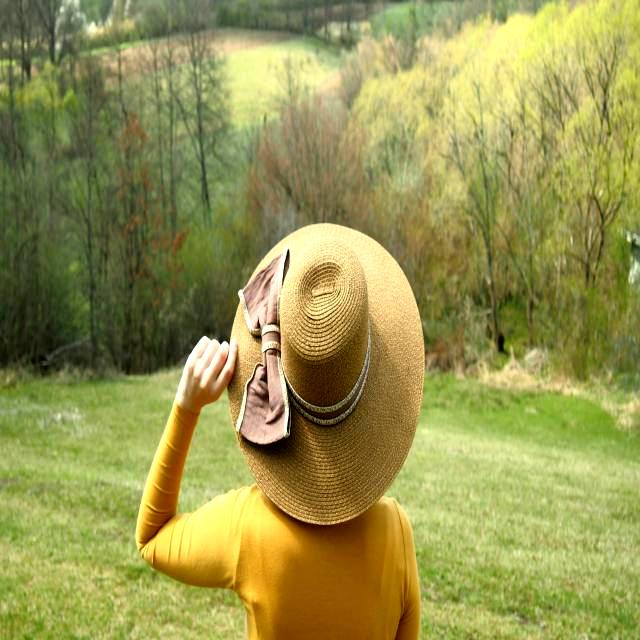no_hard_hat: (228, 224, 424, 525)
person: (136, 224, 424, 640)
